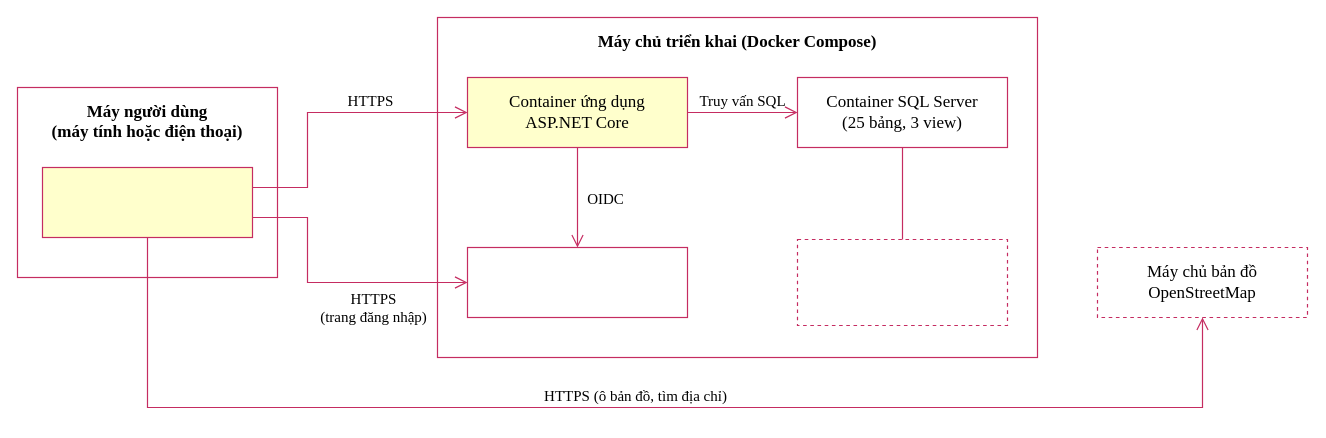
Some shapes in this 1326 by 438 pixel diagram are drawn without their labels. The centre of each missing label's shape, as x and y in pixels:
"Container Keycloak (đăng nhập OIDC)" goes at point (577, 282).
"Trình duyệt web (giao diện React)" goes at point (147, 202).
"Vùng lưu dữ liệu của SQL Server, kể cả ảnh đã tải lên" goes at point (902, 282).
